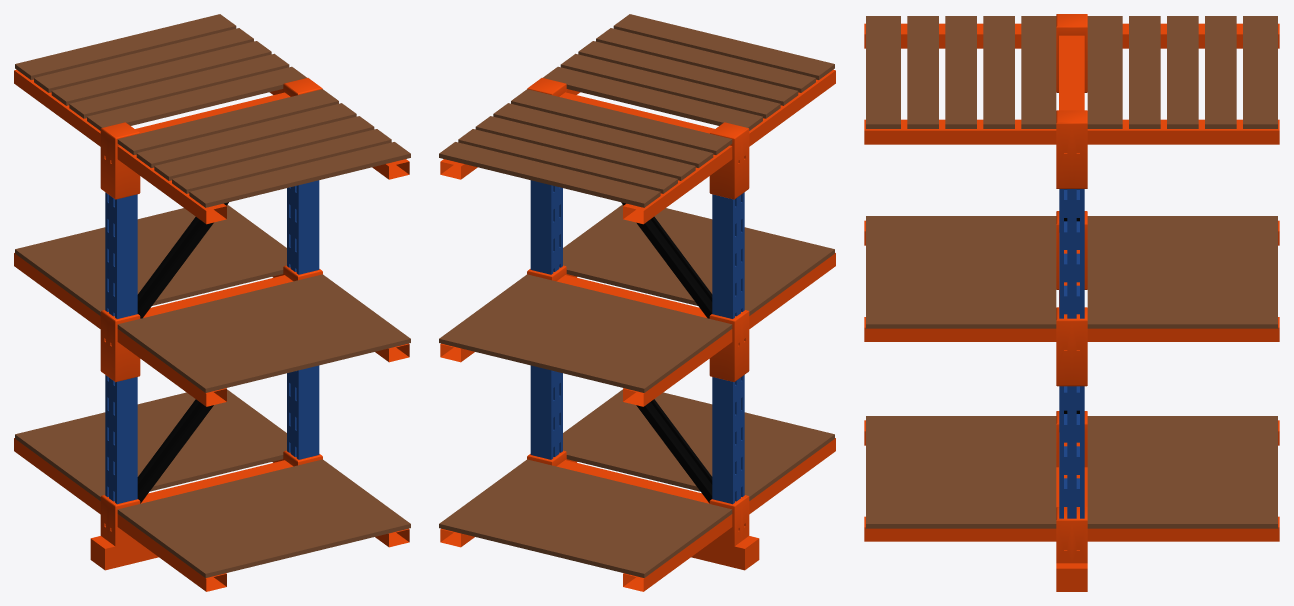
The model's file is Shelf_06_mid.glb.
3 renders of one model, left to right at view 1: azimuth 30°, elevation 25°; view 2: azimuth 150°, elevation 25°; view 3: azimuth 270°, elevation 25°, orthographic. The views are drawn at different scales.
Visible parts, largest first — view 1: Mesh_Shelf_06_mid; view 2: Mesh_Shelf_06_mid; view 3: Mesh_Shelf_06_mid.
Part boxes in pixels (x1,y1,x2,y2): Mesh_Shelf_06_mid: (14, 14, 410, 591); Mesh_Shelf_06_mid: (439, 14, 835, 591); Mesh_Shelf_06_mid: (864, 14, 1279, 591).
Bounding box in the file's own units: 1.11 × 2 × 1.62.
1 material, 1 textured.
